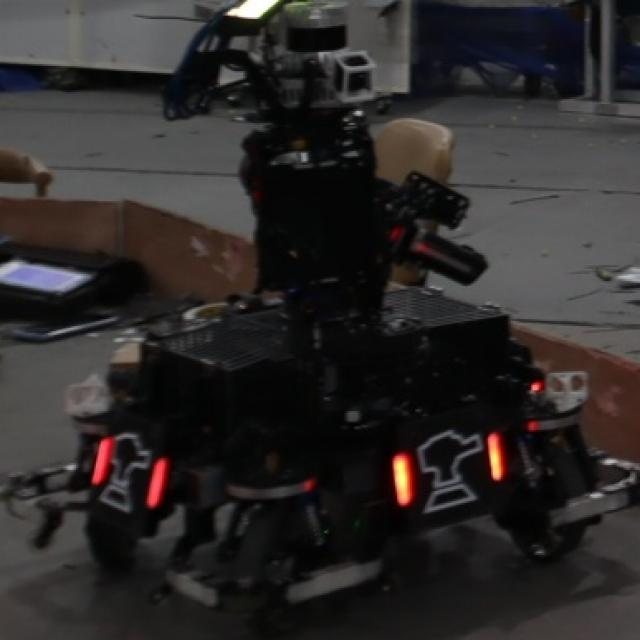Rs: (393, 425, 508, 512), (93, 428, 170, 518)
